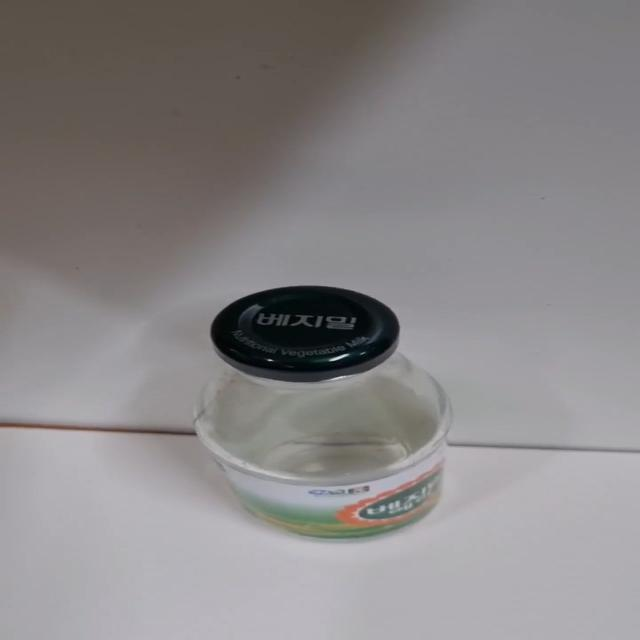Glass: (195, 286, 454, 543)
